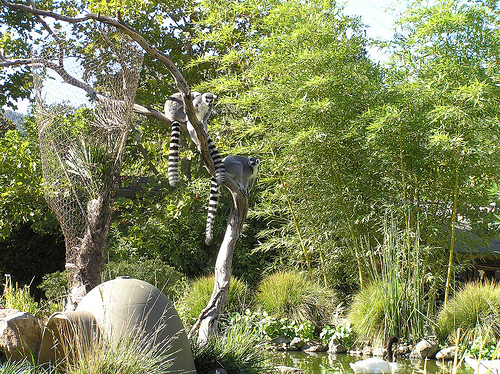cat: (162, 91, 219, 191), (204, 151, 262, 246)
